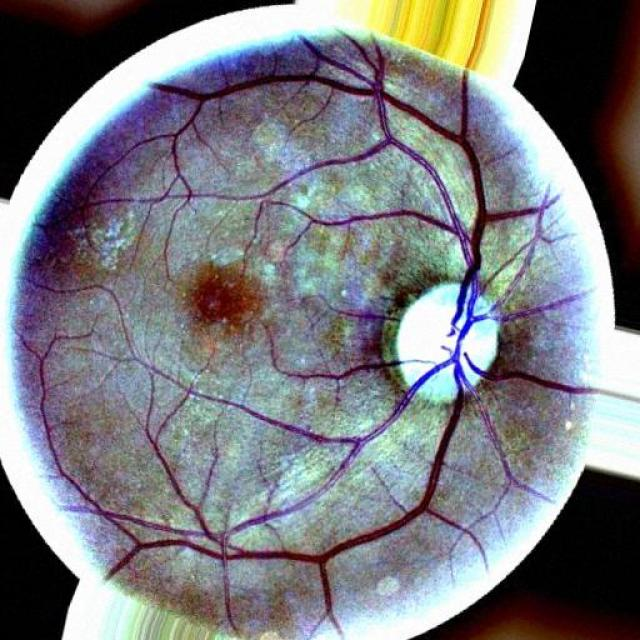Macula: (190, 265, 257, 332)
Nerves: (175, 78, 491, 326), (137, 357, 468, 570), (283, 204, 471, 257)
Optic Disk: (389, 277, 514, 406)
